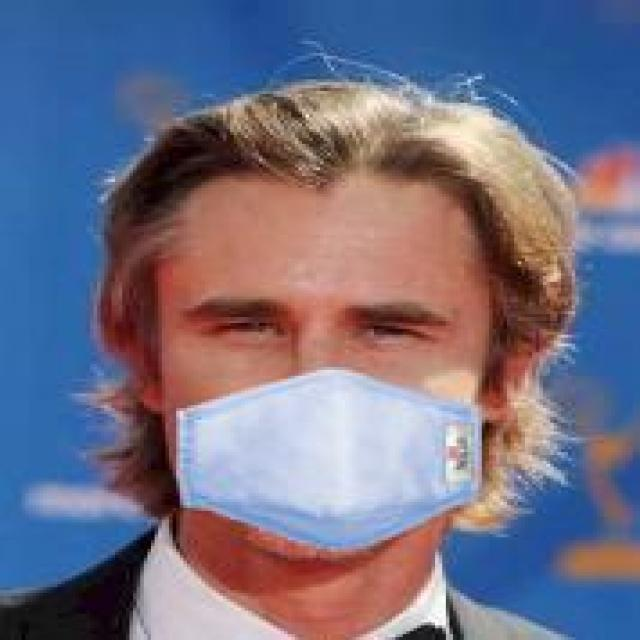mask: (61, 59, 593, 572)
